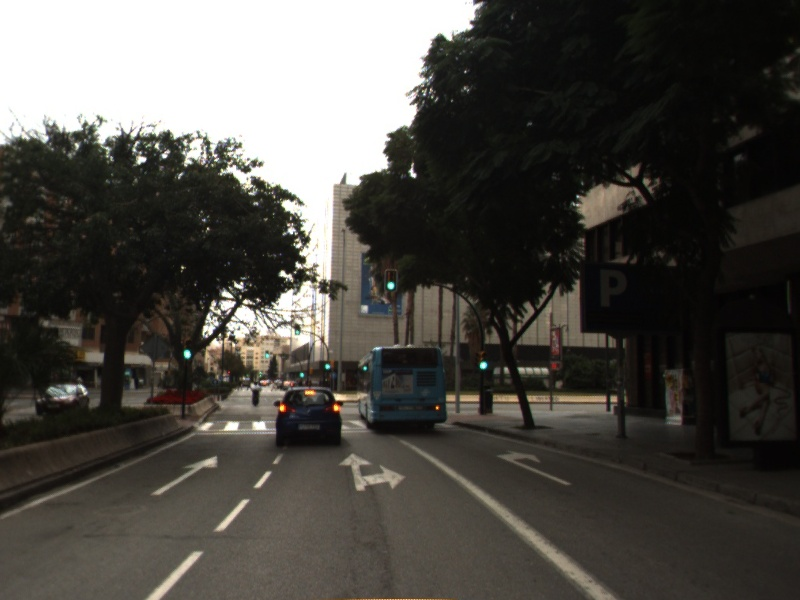RIGHT: (494, 448, 575, 487)
STRAIGHT: (148, 453, 220, 498)
STRAIGHT_RIGHT: (336, 450, 408, 493)
